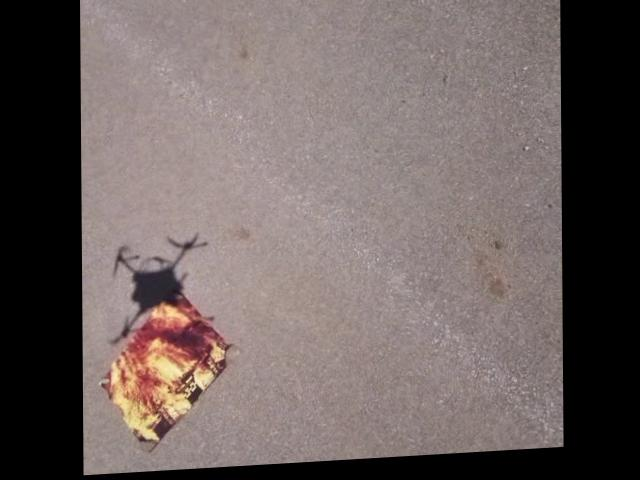fire-poster: (99, 282, 230, 454)
